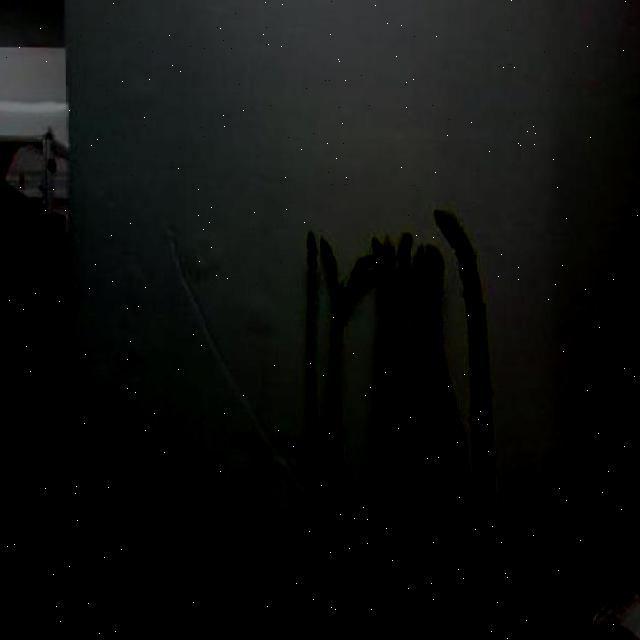aspargus: (435, 211, 493, 517)
